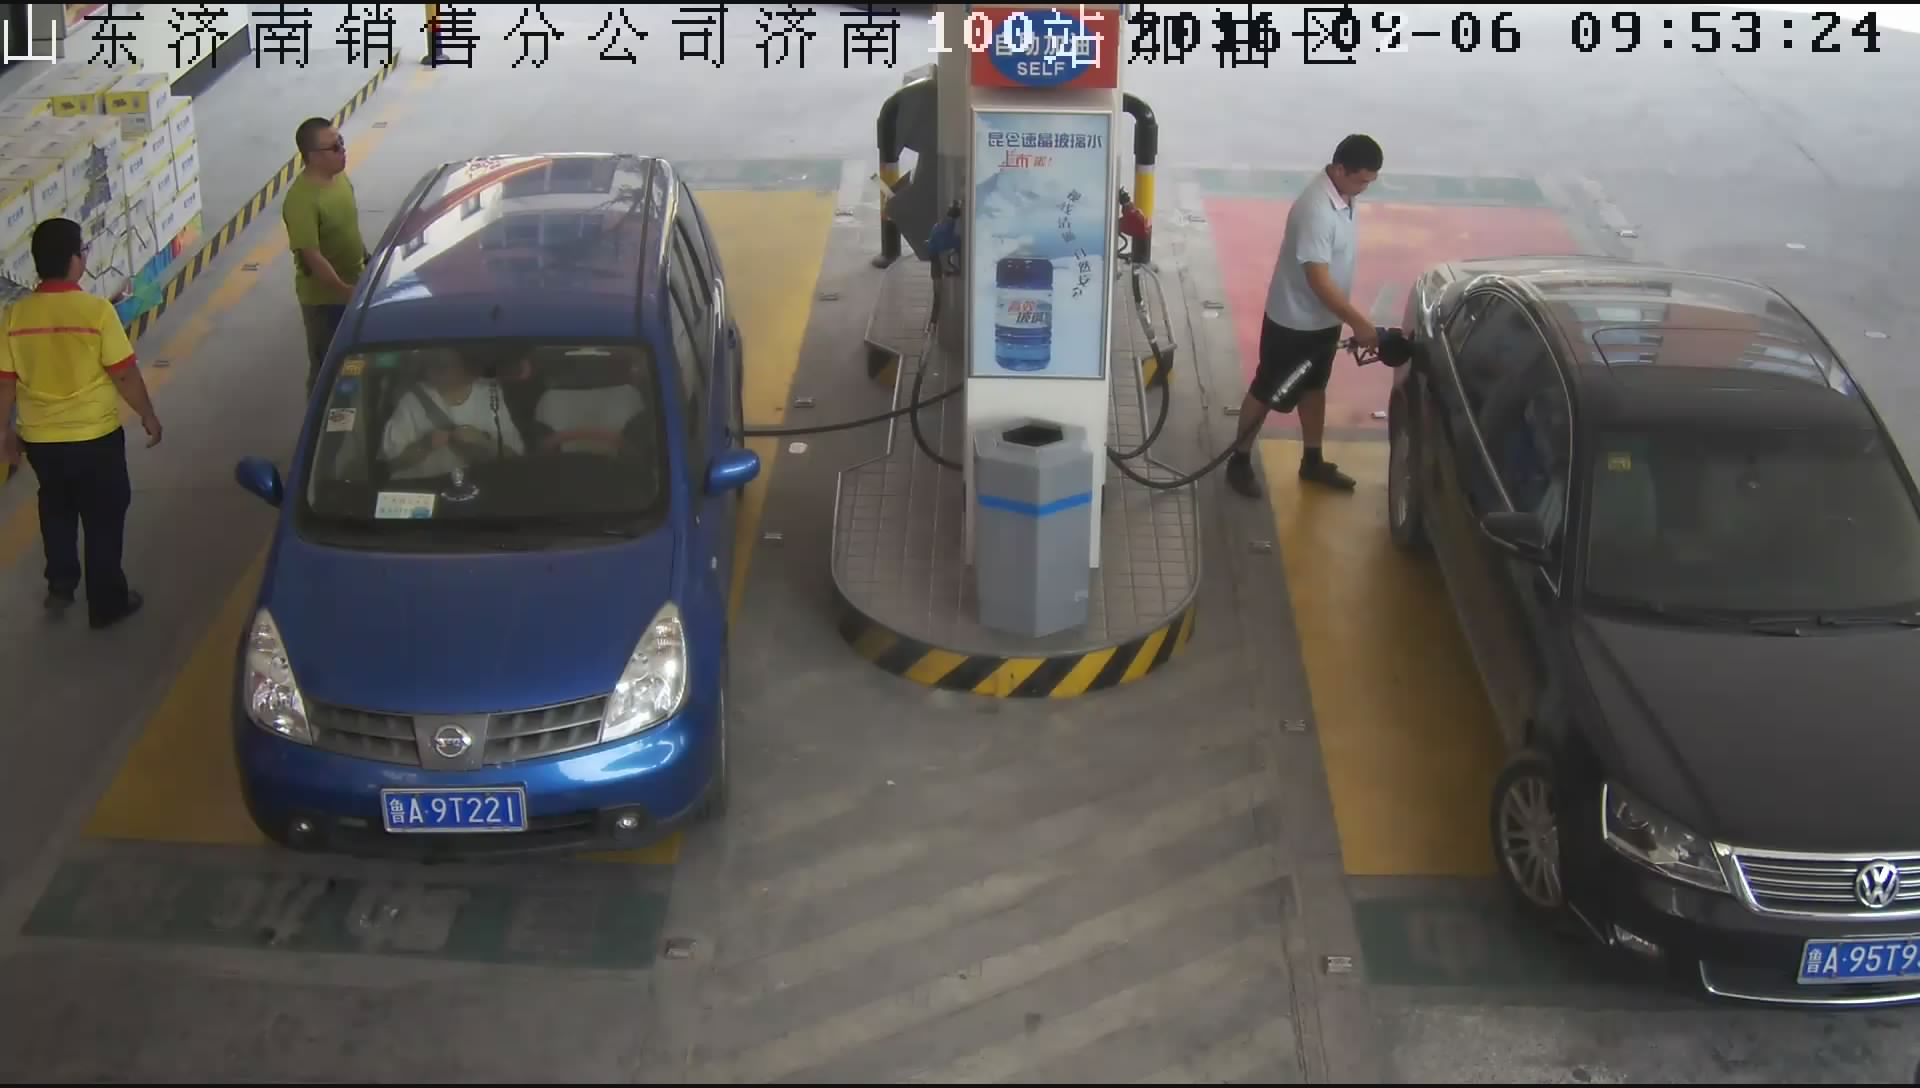blue: (378, 787, 529, 836)
